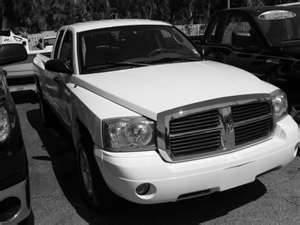car: (41, 19, 299, 205)
